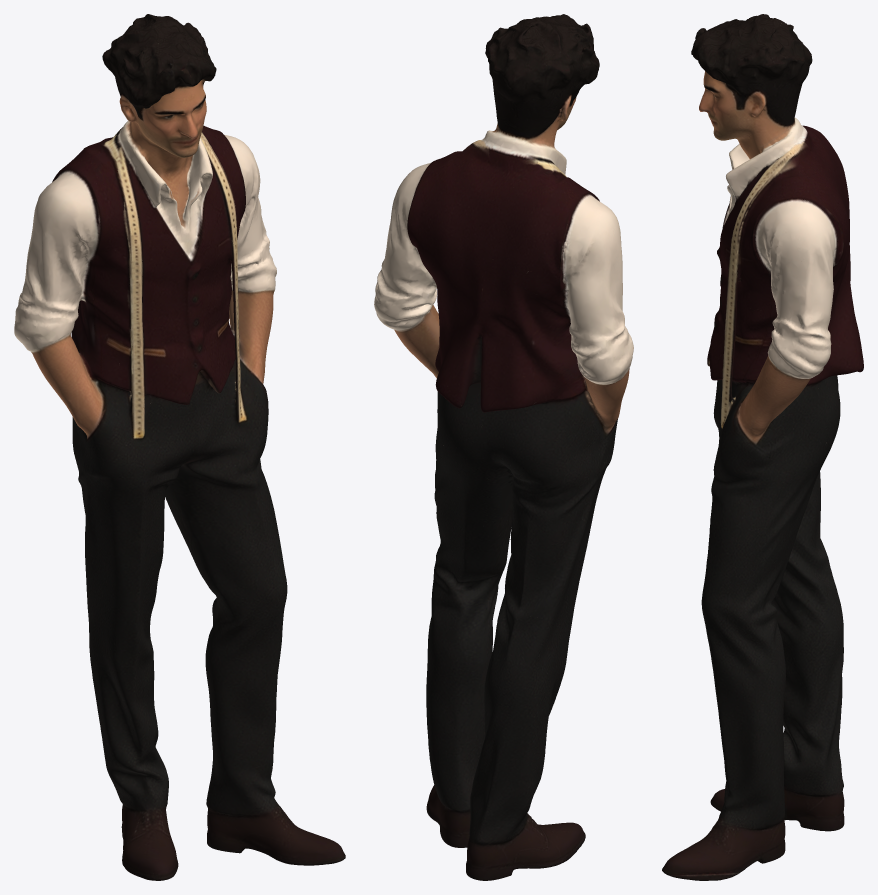
Rendered from tailor_base.glb.
3 views of the same model, side by side, from view 1: azimuth 30°, elevation 25°; view 2: azimuth 150°, elevation 25°; view 3: azimuth 270°, elevation 25° (orthographic). The views are drawn at different scales.
Size of the model in its own units: 0.6038 by 1.9 by 0.433.
1 material, 1 textured.
